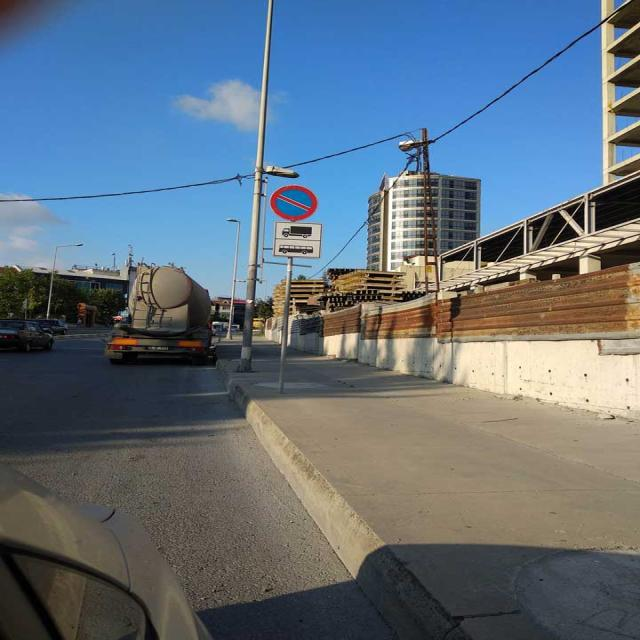parkyasak: (270, 185, 318, 221)
